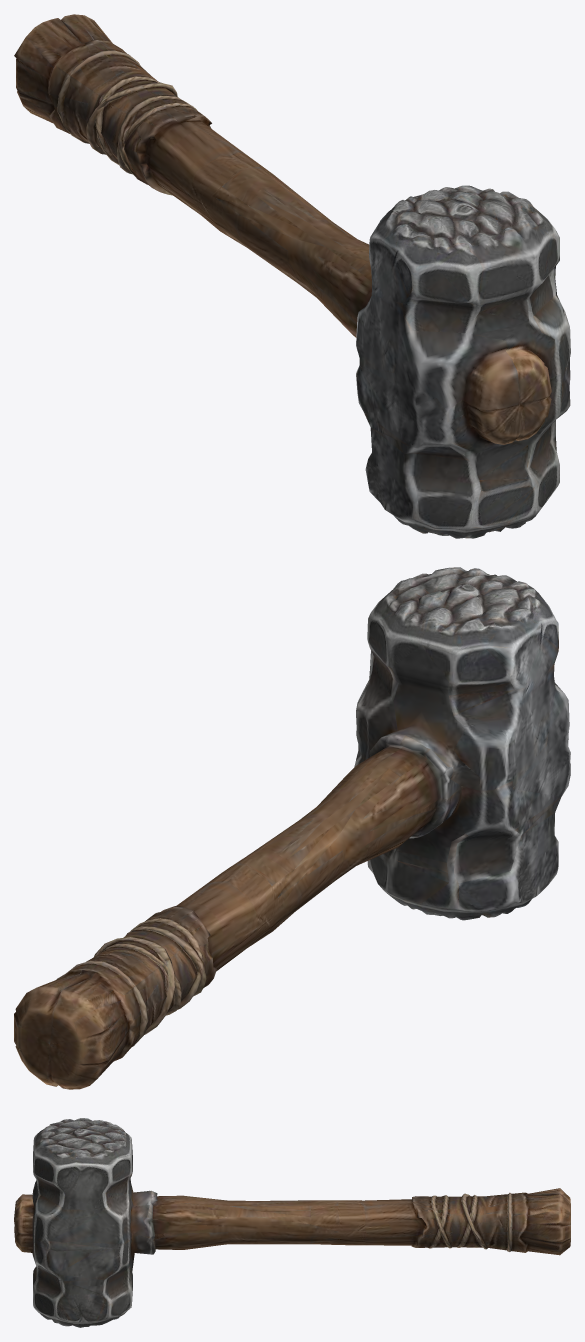
Rendered from sledgehammer.glb.
The picture shows the model from 3 angles, top to bottom: view 1: azimuth 30°, elevation 25°; view 2: azimuth 150°, elevation 25°; view 3: azimuth 270°, elevation 25°; orthographic projection. The views are drawn at different scales.
Visible parts, largest first — view 1: w_sledgehammer; view 2: w_sledgehammer; view 3: w_sledgehammer.
Part boxes in pixels (x1=…): w_sledgehammer: x1=14, y1=14, x2=570, y2=538; w_sledgehammer: x1=14, y1=567, x2=570, y2=1089; w_sledgehammer: x1=14, y1=1118, x2=570, y2=1327.
Size of the model in its own units: 0.1608 by 0.3111 by 0.85.
1 material, 1 textured.
